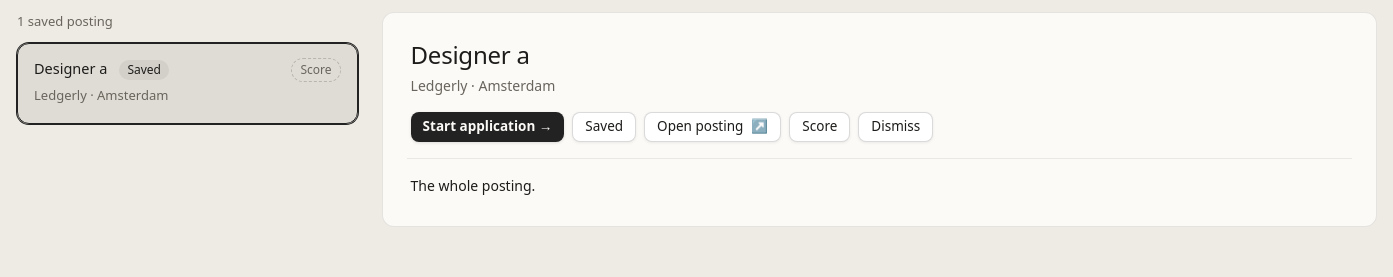
Score in Claude (#221) › closes the waiting tab when Hireline scores it after all
Click the button "Score" next to "Open posting" at [820, 127], box [789,112,850,142]
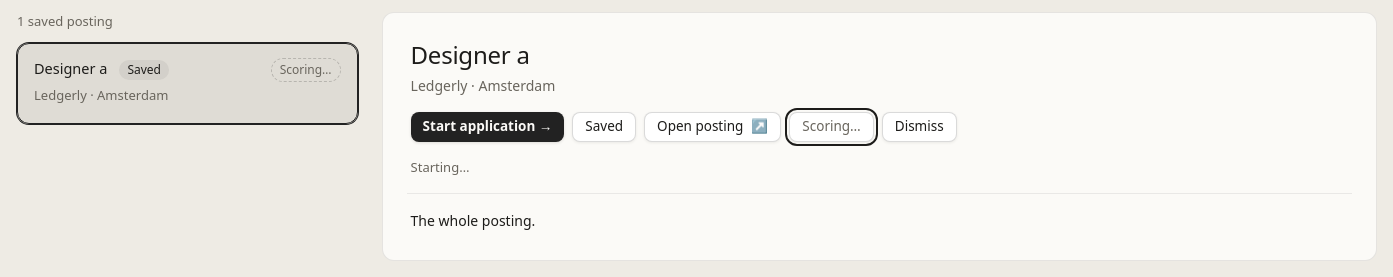
Now the button "Scoring…" next to "Open posting" is shown, box [789,112,874,142]
